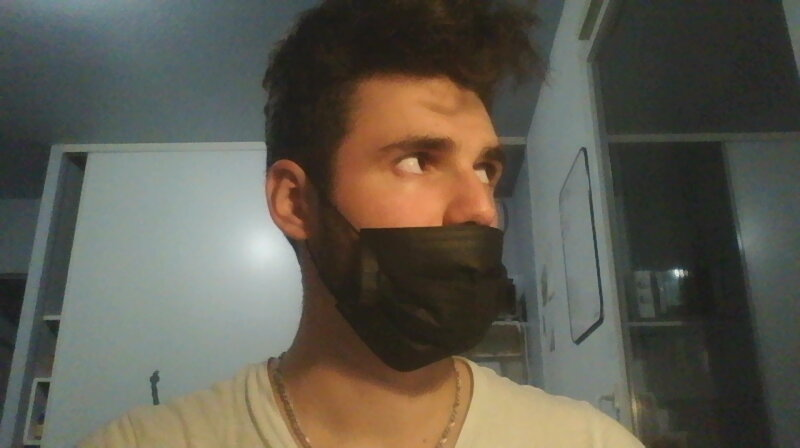with_incorrect_mask: (291, 72, 507, 375)
